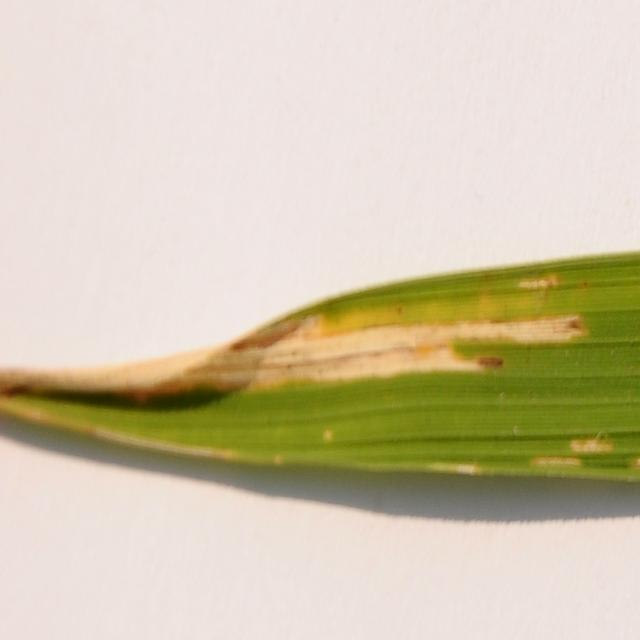leaf blight: (0, 249, 595, 392), (398, 418, 640, 490), (319, 416, 342, 451)
